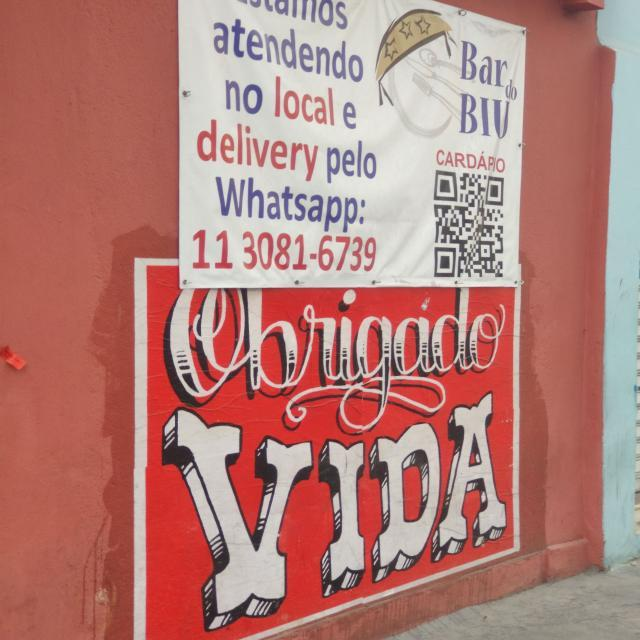qr-code: (434, 170, 505, 278)
